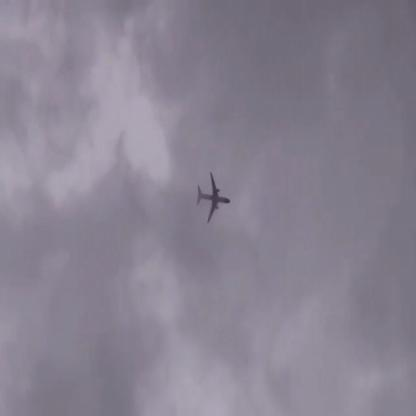CIV_Plane: (195, 172, 230, 223)
